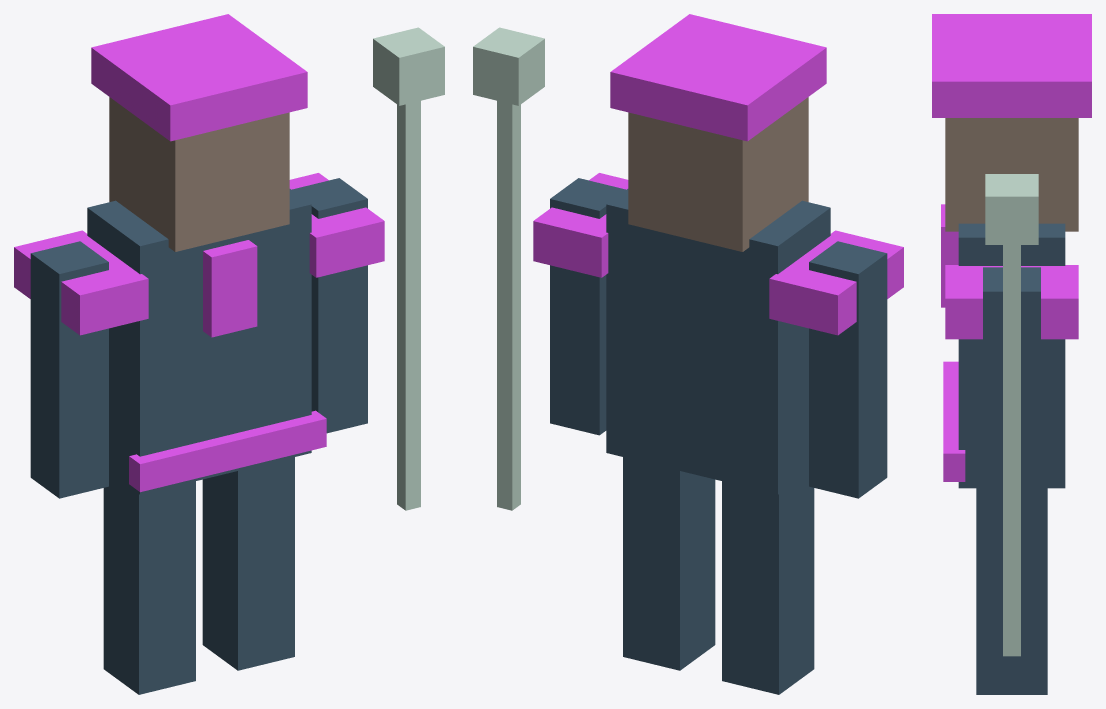
File: 19_nix_voxmere_runner_of_same_day.glb
3 views of the same model, side by side, from view 1: azimuth 30°, elevation 25°; view 2: azimuth 150°, elevation 25°; view 3: azimuth 270°, elevation 25° (orthographic).
Visible parts, largest first — view 1: Nix Voxmere, Runner of Same-Day; view 2: Nix Voxmere, Runner of Same-Day; view 3: Nix Voxmere, Runner of Same-Day.
Part boxes in pixels (left/top/right/bottom): Nix Voxmere, Runner of Same-Day: left=14, top=14, right=444, bottom=694; Nix Voxmere, Runner of Same-Day: left=473, top=14, right=903, bottom=694; Nix Voxmere, Runner of Same-Day: left=932, top=14, right=1091, bottom=694.
Bounding box in the file's own units: 0.9541 × 1.42 × 0.3384.
